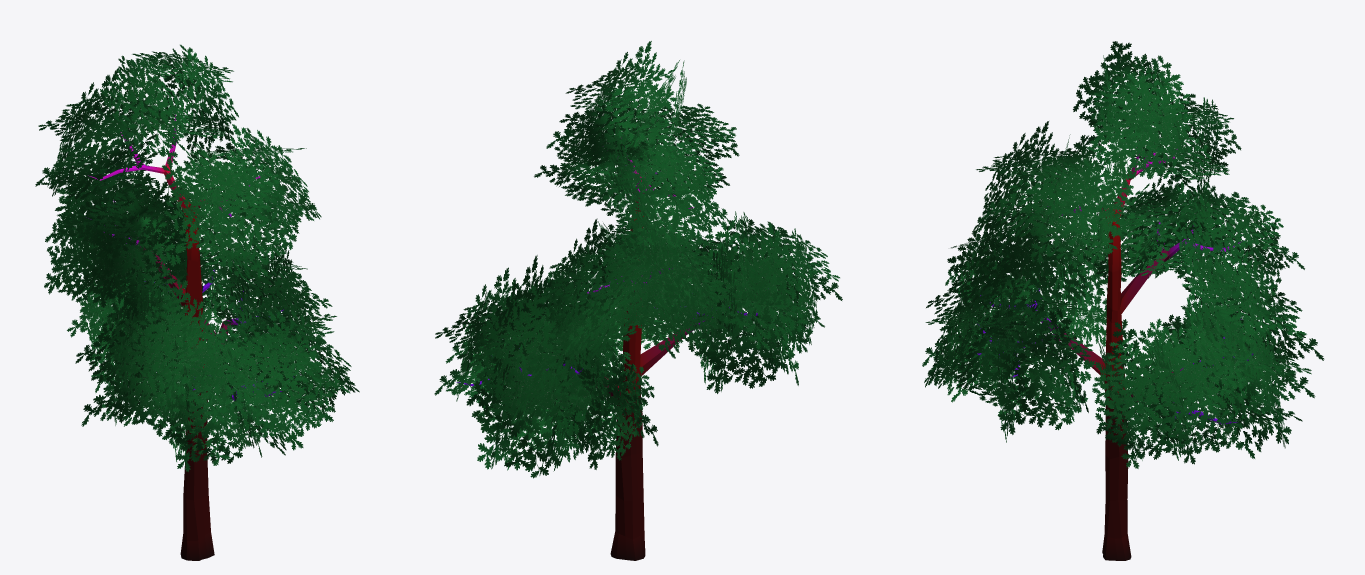
Rendered from PT_Oak_Tree_03_green_cut.fbx.
The picture shows the model from 3 angles, left to right: view 1: azimuth 30°, elevation 25°; view 2: azimuth 150°, elevation 25°; view 3: azimuth 270°, elevation 25°; orthographic projection. The views are drawn at different scales.
Parts seen in each view (by area): view 1: PT_Oak_Tree_03_green_cut; view 2: PT_Oak_Tree_03_green_cut; view 3: PT_Oak_Tree_03_green_cut.
Boxes of the visible parts, x1,y1,x2,y2 form: PT_Oak_Tree_03_green_cut: [35, 44, 359, 560]; PT_Oak_Tree_03_green_cut: [434, 41, 842, 560]; PT_Oak_Tree_03_green_cut: [922, 41, 1324, 560].
Size of the model in its own units: 485 by 745 by 594.
